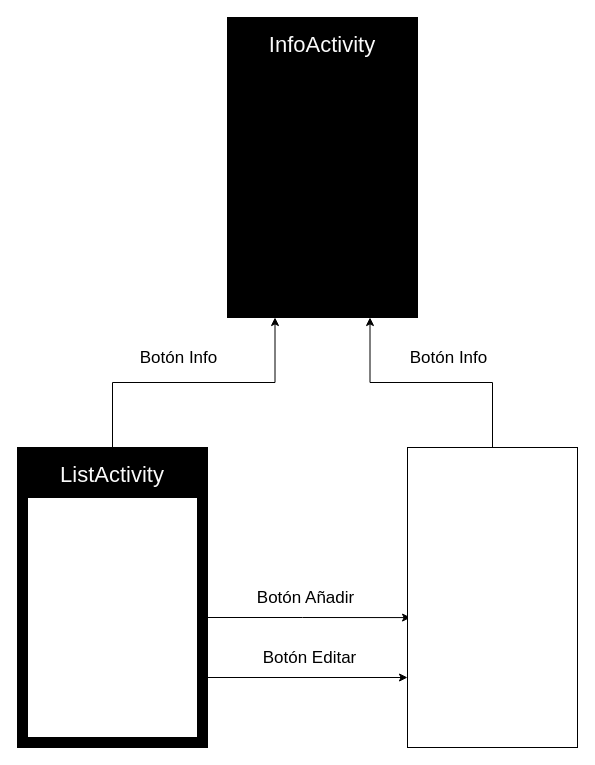
The diagram is 595 pixels wide and 765 high, and some of its shapes have lost their labels. Here are the shapes that lost their labels. From the top down, the centre of each, then its label:
point (112, 617): ListFragment
point (492, 597): DetailFragment
